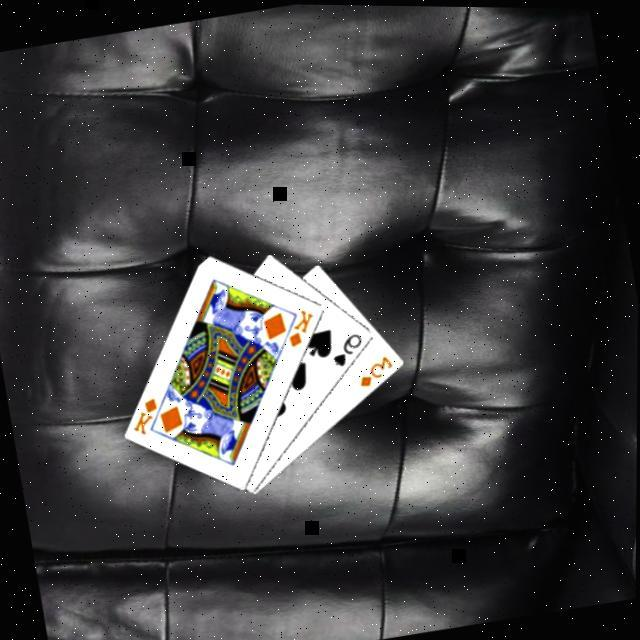3D: (351, 348, 397, 390)
9S: (324, 327, 366, 369)
KD: (278, 303, 320, 349), (124, 392, 163, 438)
